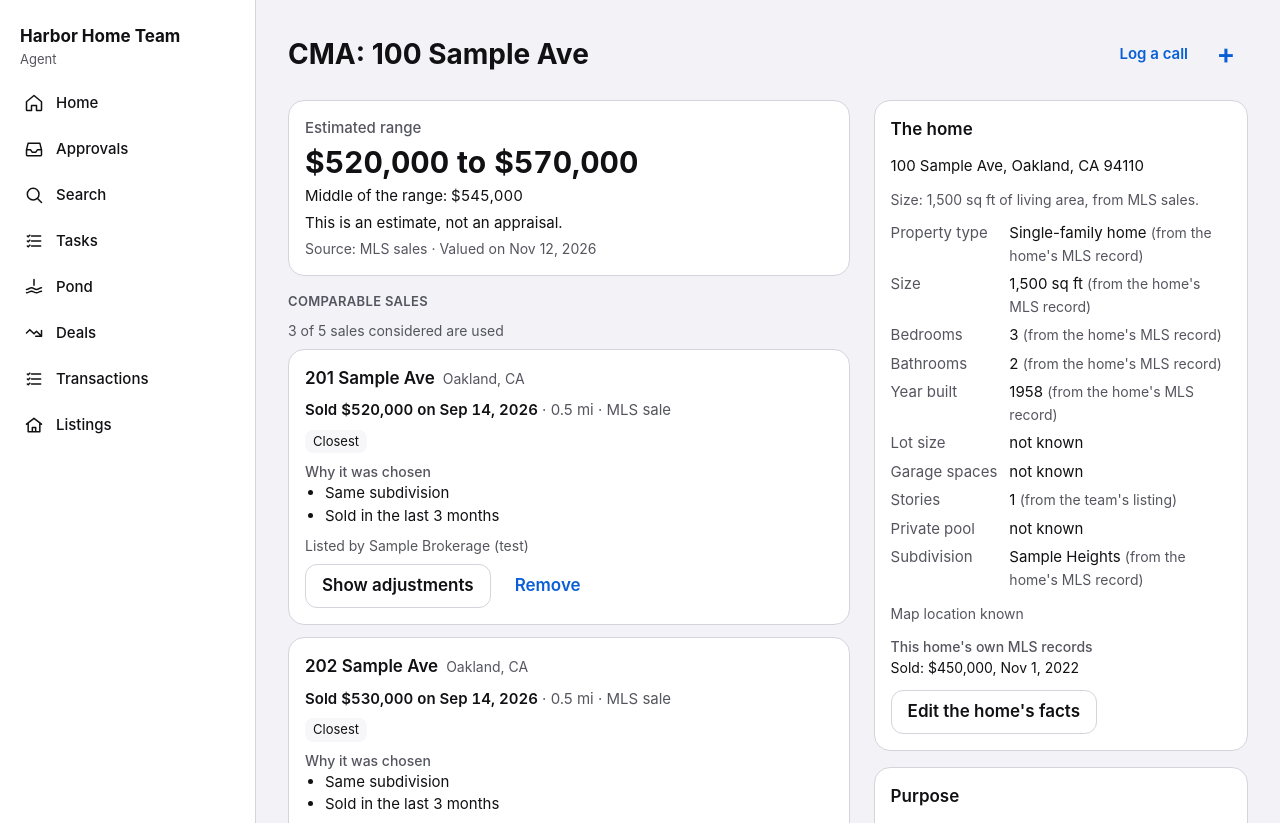
CMA screen: the draft › an edit refused CMA_NOT_DRAFT says so in words and shows the CMA as it is now
Click the button with aria-label "Remove 201 Sample Ave from the comparable sales" at (548, 586), box [499,564,597,608]
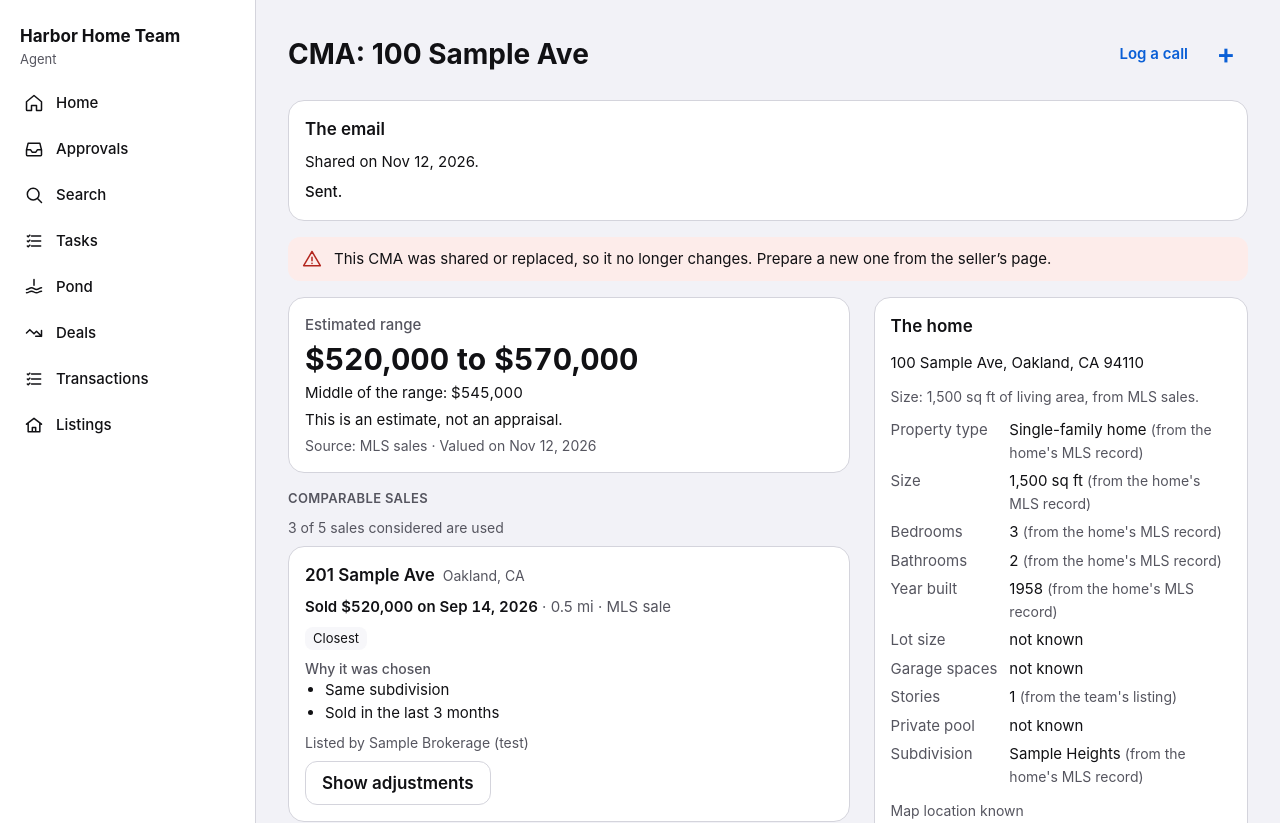
Now the text "This CMA was shared or replaced, so it no longer changes" is shown, box [334,248,1051,268]
Now the text "Sent." is shown, box [305,182,342,201]
